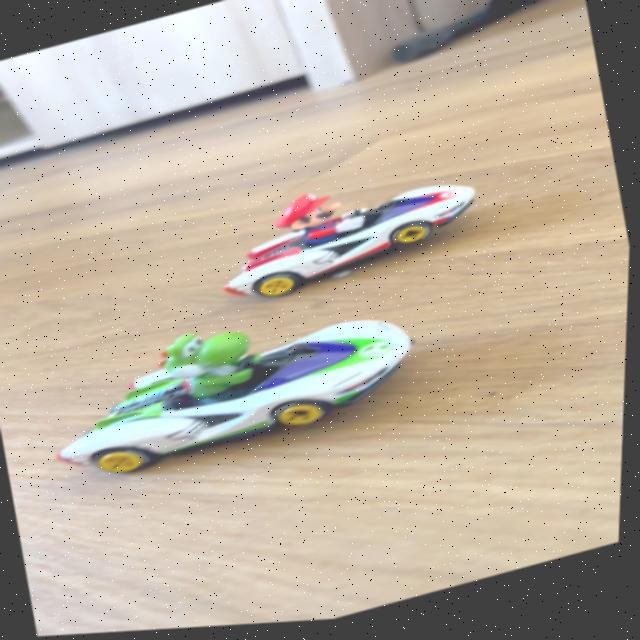mario: (203, 157, 496, 320)
yoshi: (43, 270, 449, 502)
